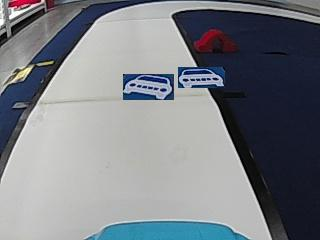bridge: (195, 29, 236, 51)
